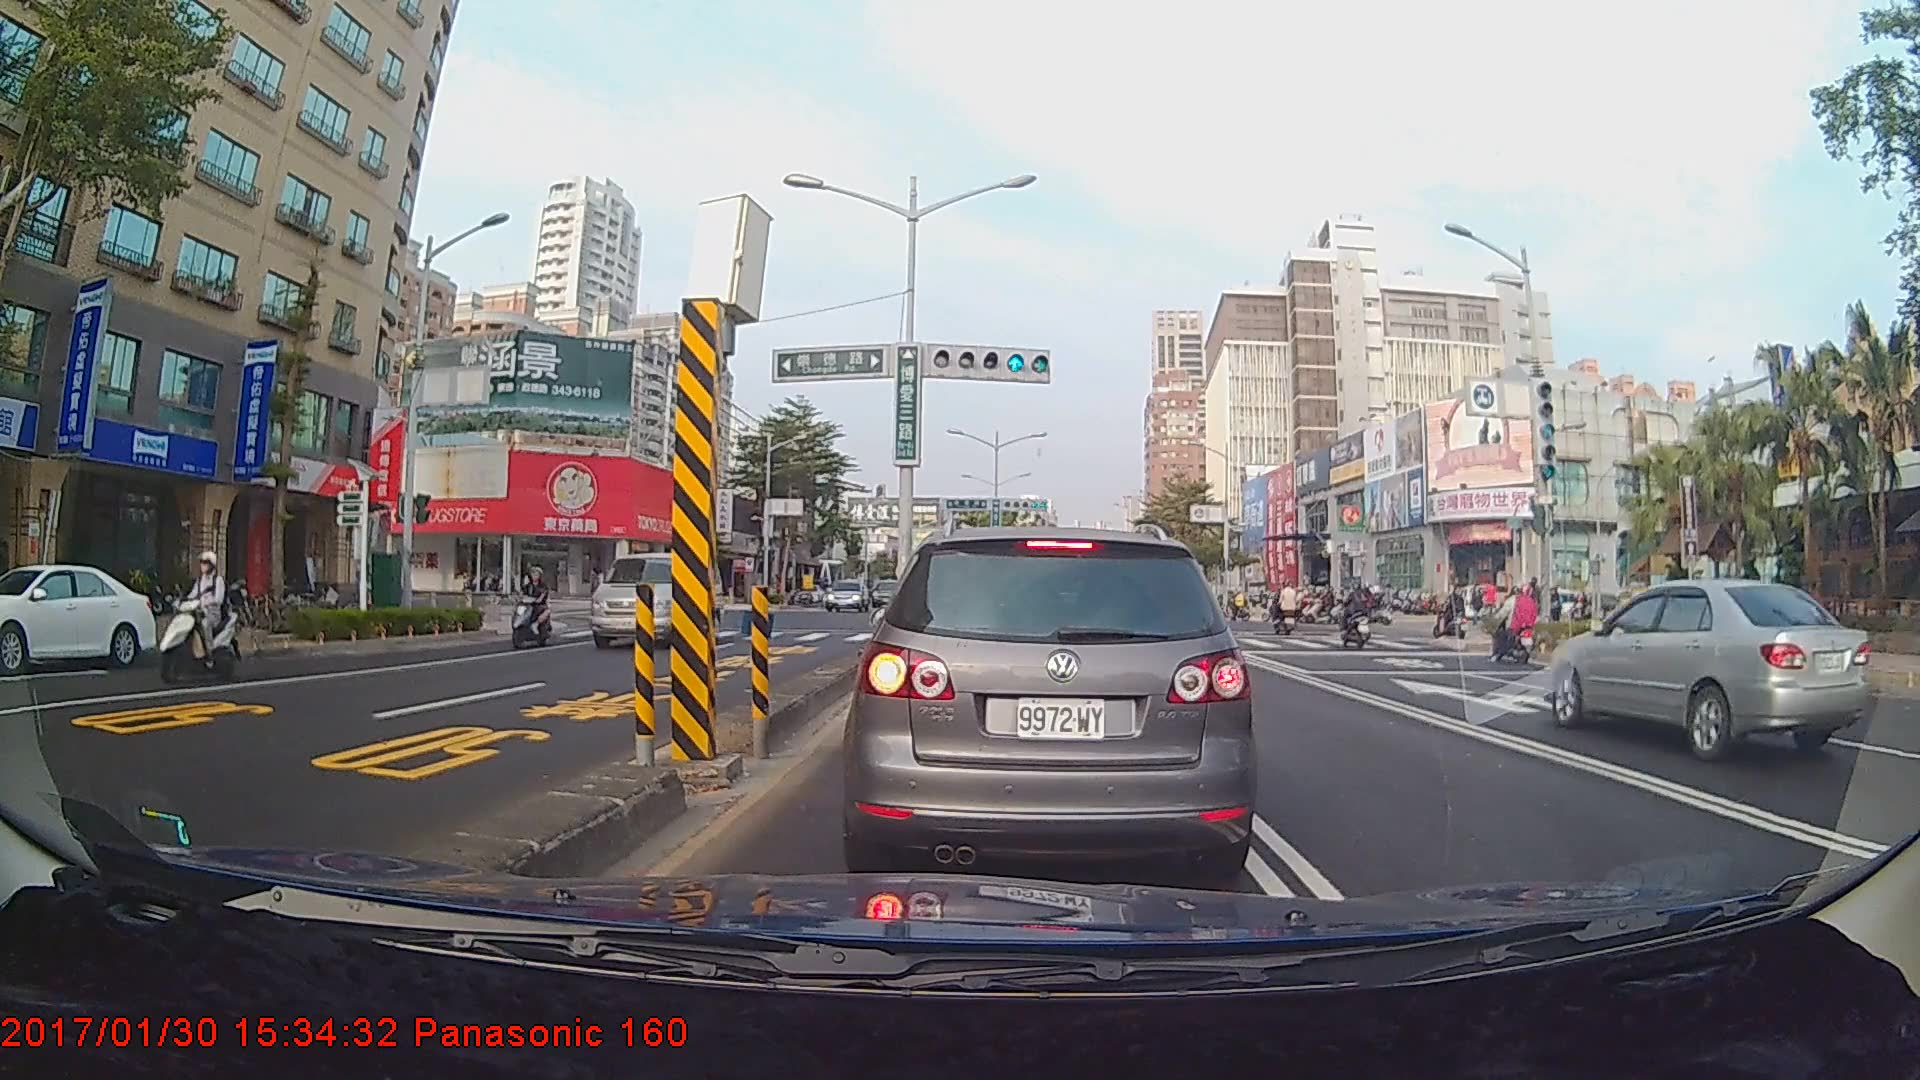rider: (139, 551, 237, 691), (1485, 582, 1548, 668), (509, 565, 563, 648), (1332, 580, 1382, 651), (1436, 582, 1473, 646), (1271, 582, 1308, 635)
vehicle: (855, 525, 1246, 880), (1539, 577, 1872, 762), (0, 561, 157, 671), (592, 550, 734, 653), (820, 579, 872, 612)
